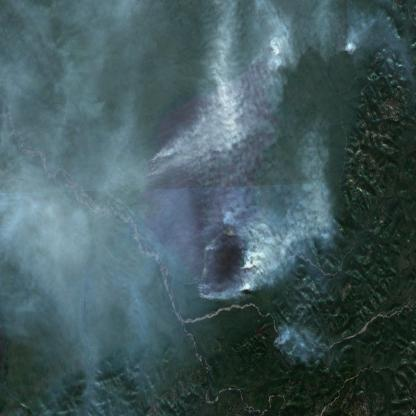fire: (194, 249, 266, 309), (136, 145, 178, 215), (245, 33, 288, 90), (336, 31, 356, 63)
